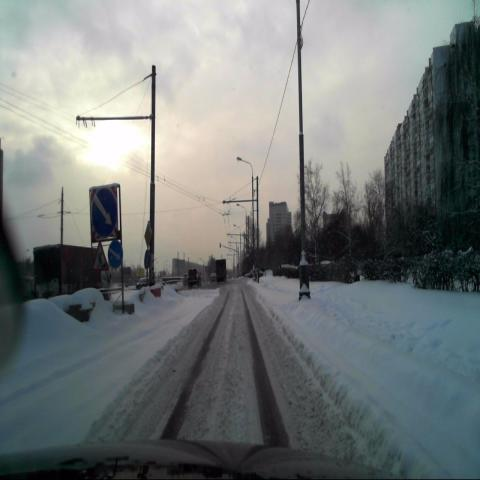1_25: (92, 242, 108, 272)
